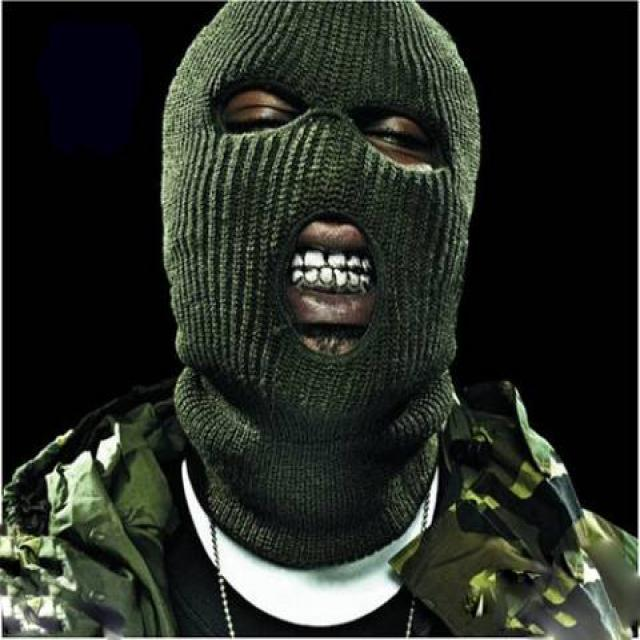6_pasamontana: (158, 0, 482, 570)
